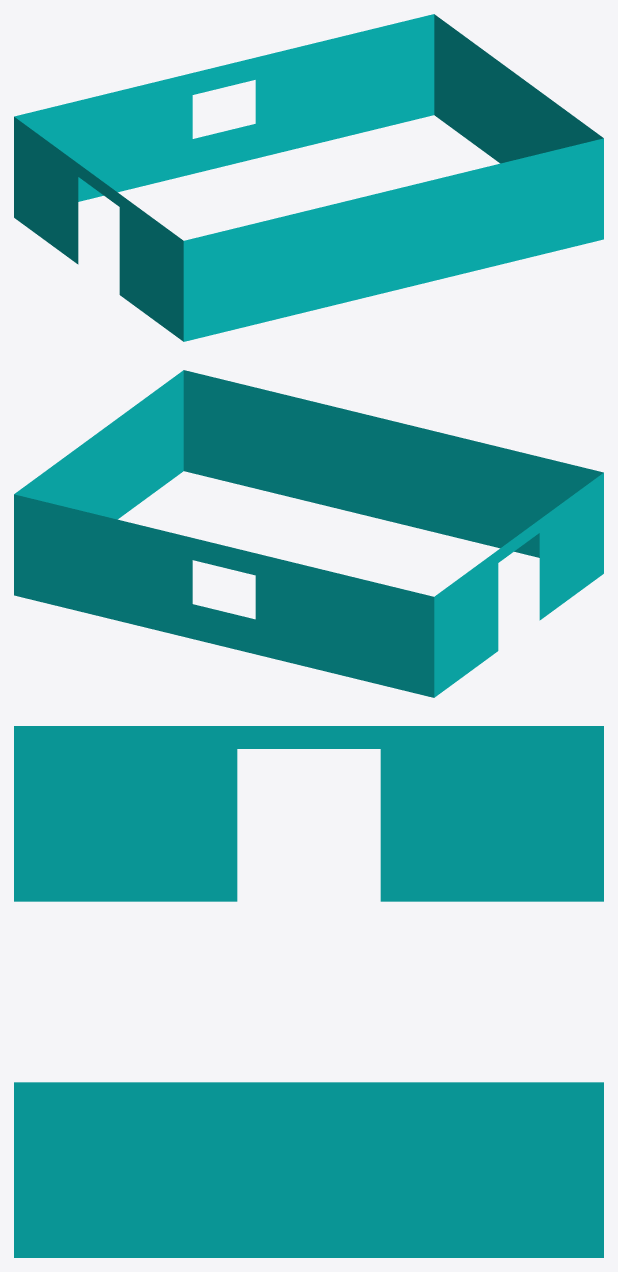
File: walls.fbx
3 renders of one model, top to bottom at view 1: azimuth 30°, elevation 25°; view 2: azimuth 150°, elevation 25°; view 3: azimuth 270°, elevation 25°, orthographic. The views are drawn at different scales.
Parts seen in each view (by area): view 1: wall1, wallWindow, wallDoor, wall2; view 2: wallWindow, wall1, wallDoor, wall2; view 3: wall2, wallDoor.
Part boxes in pixels (x1,y1,x2,y2): wall1: (183,138,603,341); wallWindow: (14,14,434,201); wallDoor: (14,117,183,341); wall2: (434,14,603,163); wallWindow: (14,494,434,697); wall1: (183,370,603,557); wallDoor: (434,473,603,697); wall2: (14,370,183,519); wall2: (14,1082,603,1257); wallDoor: (14,726,603,901).
Size of the model in its own units: 1000 by 230 by 700.
